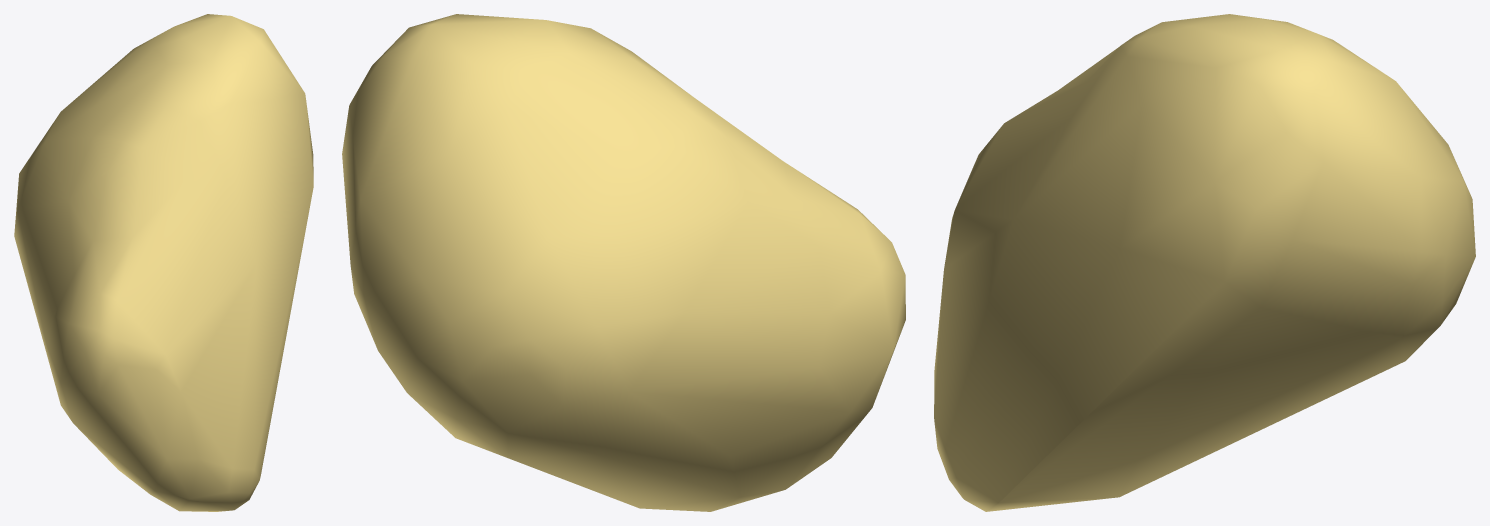
File: fma73309.glb
3 renders of one model, left to right at view 1: azimuth 30°, elevation 25°; view 2: azimuth 150°, elevation 25°; view 3: azimuth 270°, elevation 25°, orthographic. The views are drawn at different scales.
Visible parts, largest first — view 1: FMA73309; view 2: FMA73309; view 3: FMA73309.
Boxes of the visible parts, <box> form: FMA73309: <box>14,14,313,511</box>; FMA73309: <box>342,14,905,511</box>; FMA73309: <box>934,14,1475,511</box>.
Bounding box in the file's own units: 0.00628 × 0.0073 × 0.00674.
